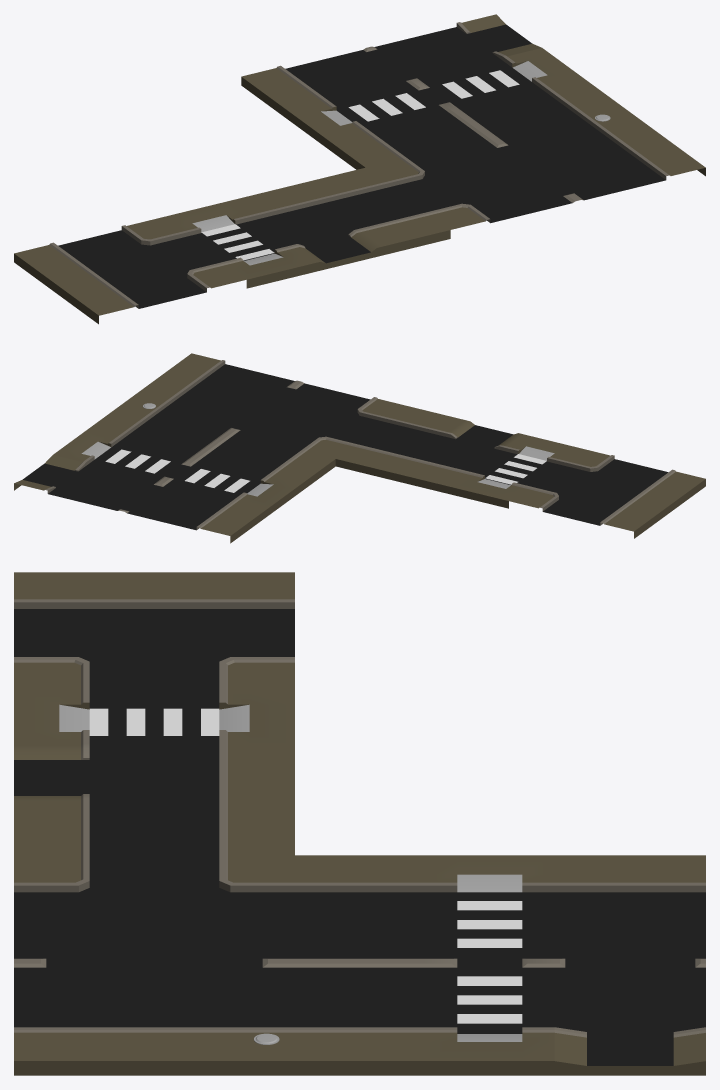
File: Roads.fbx
The picture shows the model from 3 angles, top to bottom: view 1: azimuth 30°, elevation 25°; view 2: azimuth 150°, elevation 25°; view 3: azimuth 270°, elevation 25°; orthographic projection. The views are drawn at different scales.
Parts seen in each view (by area): view 1: AsphaltRoad3, AsphaltRoad2, AsphaltRoad4.002, AsphaltRoad4.001, AsphaltRoad4, AsphaltRoad1.001, AsphaltRoad1.002, AsphaltRoad1; view 2: AsphaltRoad3, AsphaltRoad2, AsphaltRoad4.002, AsphaltRoad4.001, AsphaltRoad4, AsphaltRoad1, AsphaltRoad1.001, AsphaltRoad1.002; view 3: AsphaltRoad3, AsphaltRoad2, AsphaltRoad4.002, AsphaltRoad4, AsphaltRoad4.001, AsphaltRoad1, AsphaltRoad1.002, AsphaltRoad1.001.
Boxes of the visible parts, x1=… form: AsphaltRoad3: x1=366, y1=105, x2=705, y2=229; AsphaltRoad2: x1=14, y1=217, x2=246, y2=324; AsphaltRoad4.002: x1=241, y1=14, x2=541, y2=118; AsphaltRoad4.001: x1=287, y1=48, x2=580, y2=147; AsphaltRoad4: x1=326, y1=76, x2=620, y2=169; AsphaltRoad1.001: x1=161, y1=201, x2=314, y2=288; AsphaltRoad1.002: x1=230, y1=184, x2=382, y2=271; AsphaltRoad1: x1=298, y1=167, x2=450, y2=255; AsphaltRoad3: x1=120, y1=353, x2=407, y2=458; AsphaltRoad2: x1=509, y1=448, x2=705, y2=538; AsphaltRoad4.002: x1=14, y1=455, x2=269, y2=543; AsphaltRoad4.001: x1=53, y1=430, x2=302, y2=514; AsphaltRoad4: x1=86, y1=406, x2=335, y2=490; AsphaltRoad1: x1=335, y1=406, x2=465, y2=480; AsphaltRoad1.001: x1=451, y1=434, x2=580, y2=508; AsphaltRoad1.002: x1=393, y1=420, x2=522, y2=494; AsphaltRoad3: x1=14, y1=853, x2=294, y2=1075; AsphaltRoad2: x1=14, y1=572, x2=294, y2=695; AsphaltRoad4.002: x1=554, y1=855, x2=705, y2=1075; AsphaltRoad4: x1=295, y1=855, x2=424, y2=1075; AsphaltRoad4.001: x1=425, y1=855, x2=554, y2=1075; AsphaltRoad1: x1=14, y1=798, x2=294, y2=860; AsphaltRoad1.002: x1=14, y1=744, x2=294, y2=805; AsphaltRoad1.001: x1=14, y1=689, x2=294, y2=750.
Bounding box in the file's own units: 5350 × 85 × 3200.
